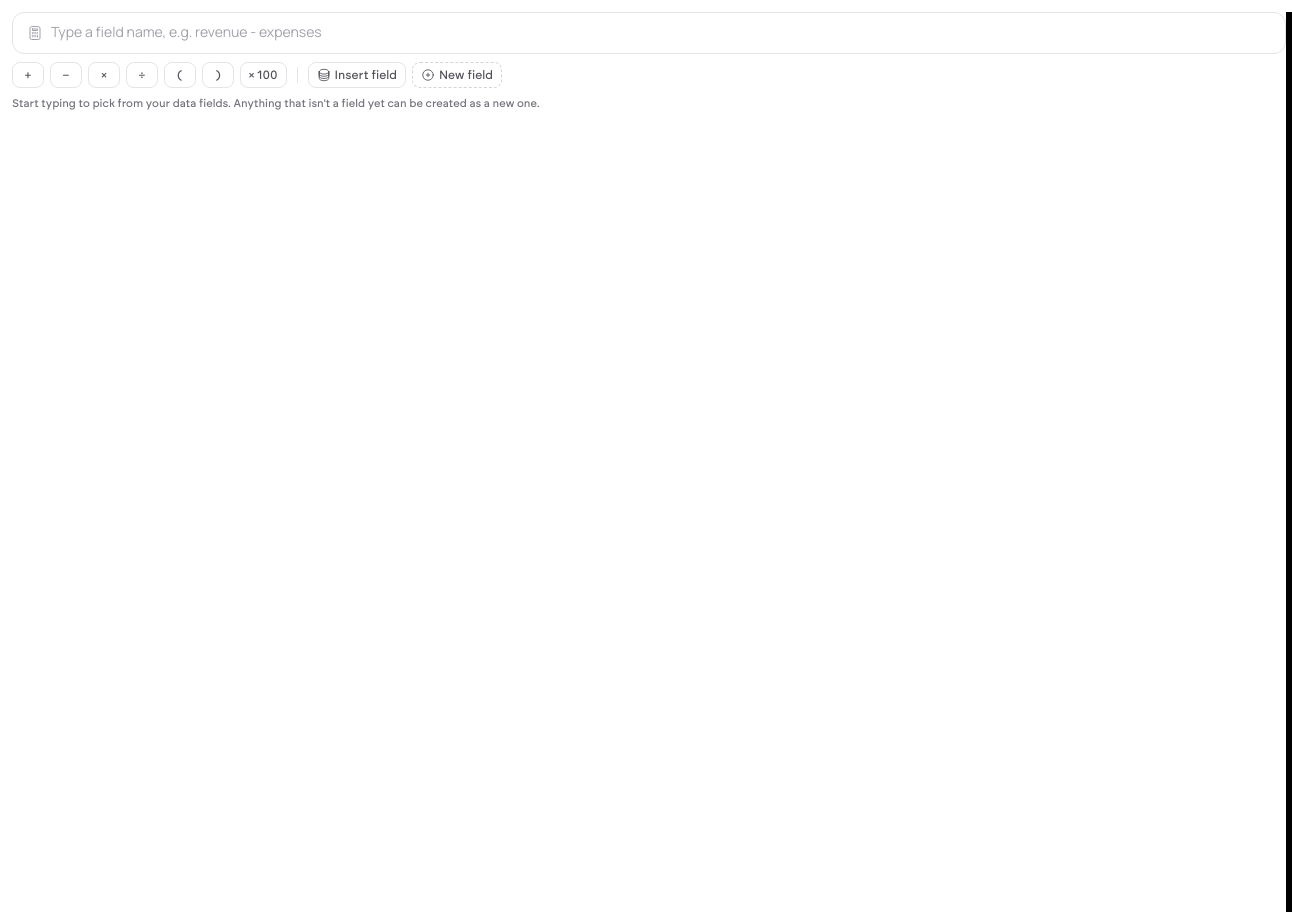
Test case: FormulaInput › suggests data fields while typing and inserts the variable on Enter
The image size is (1292, 912).
Type "reven" into the dropdown at (661, 33), box [51,13,1271,53]
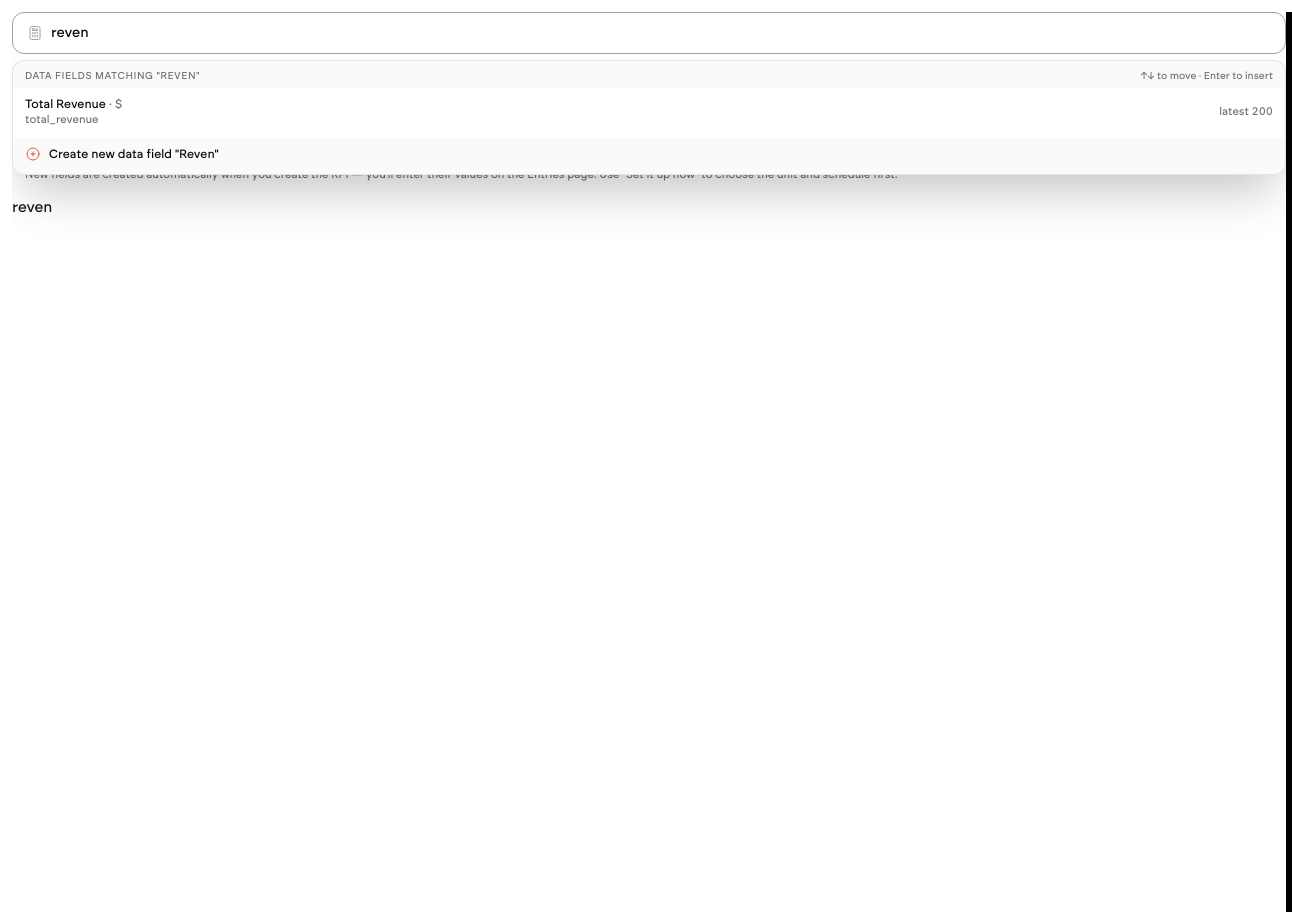
Result: the option "Total Revenue · $ total_revenue latest 200" is shown at [13,88,1285,136]
Result: the option "Create new data field \"Reven\"" is shown at [13,136,1285,170]
Press Enter
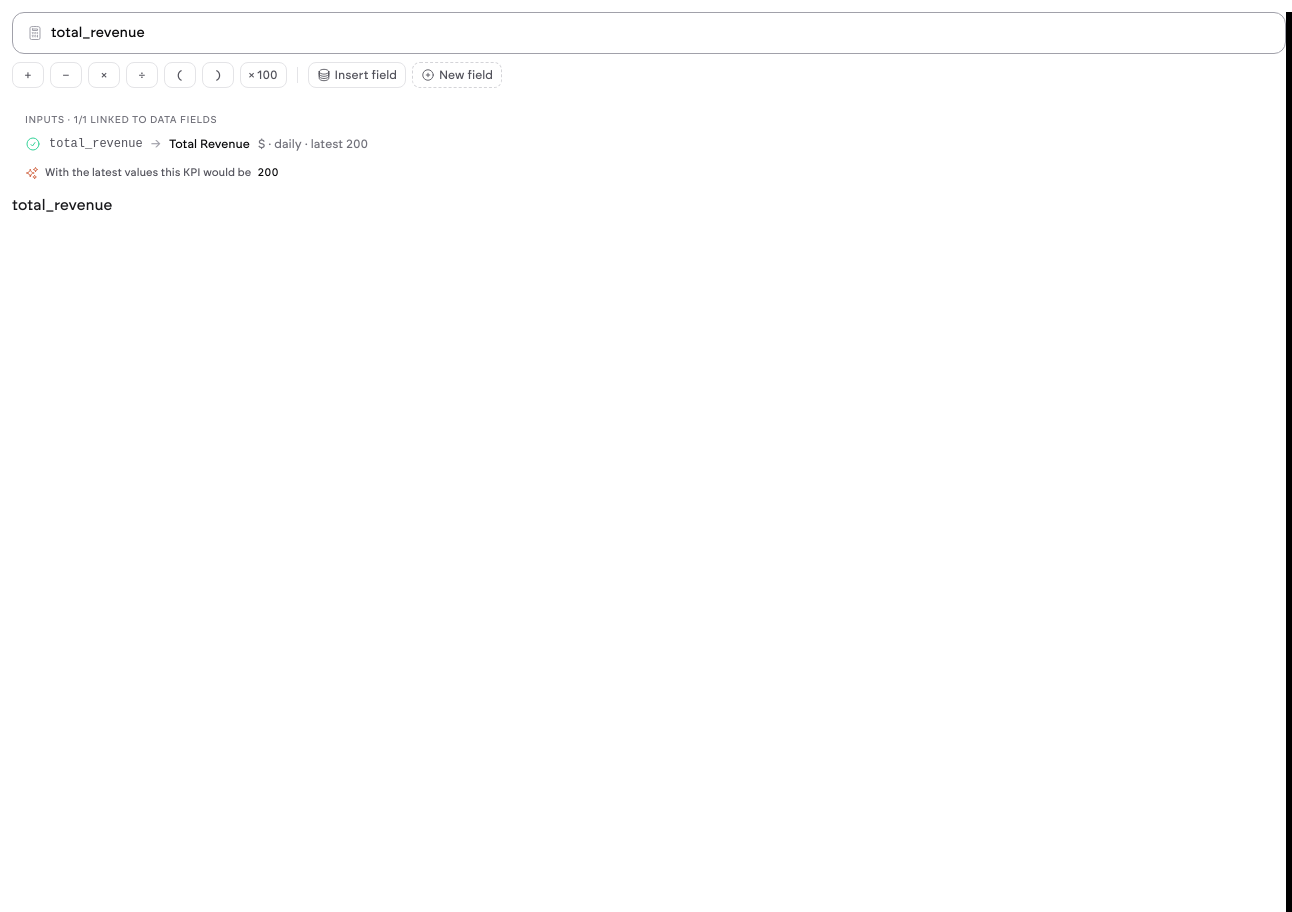
Result: the text with test id "value" reads "total_revenue" at [12,198,112,212]
